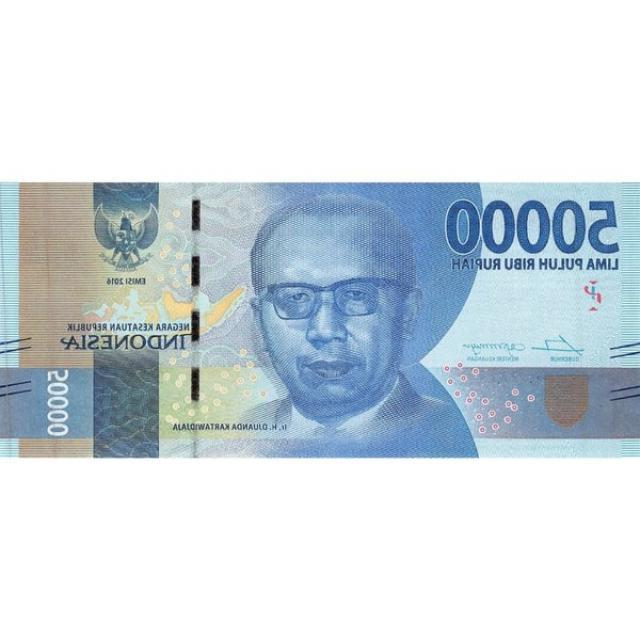lima puluh ribu rupiah: (0, 180, 640, 458)
